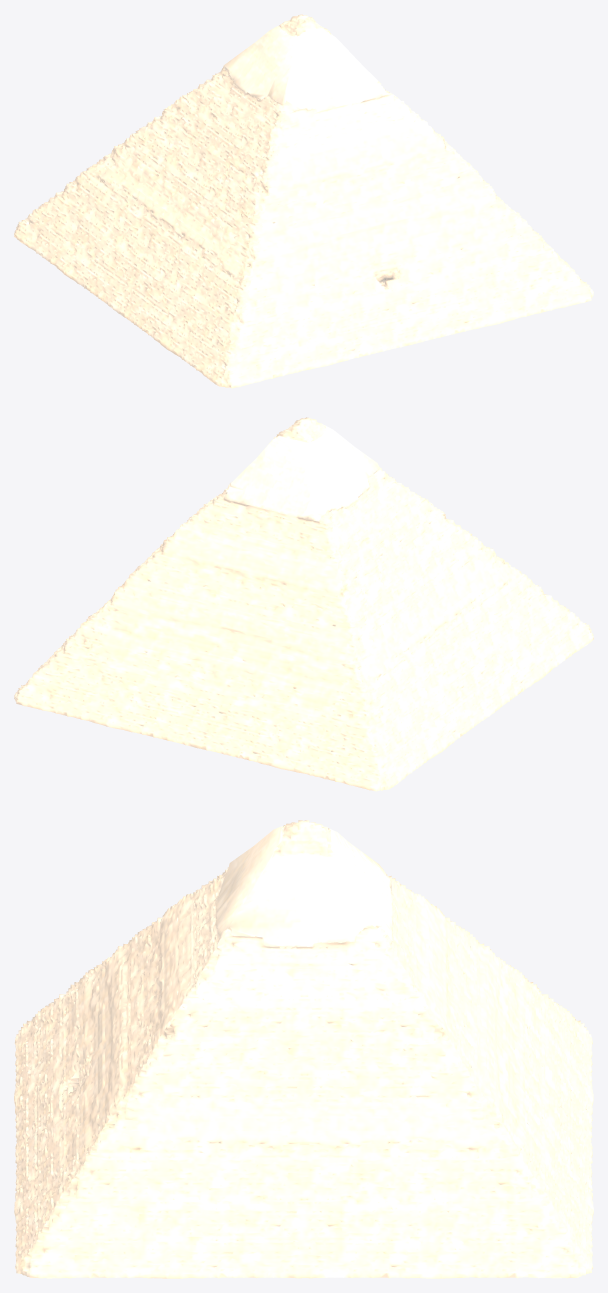
The model's file is 20250702_pyramyds_for_mb_pyramid2h.glb.
3 views of the same model, one above another, from view 1: azimuth 30°, elevation 25°; view 2: azimuth 150°, elevation 25°; view 3: azimuth 270°, elevation 25° (orthographic). The views are drawn at different scales.
Parts seen in each view (by area): view 1: khafre; view 2: khafre; view 3: khafre.
Boxes of the visible parts, x1=… form: khafre: x1=14, y1=14, x2=593, y2=388; khafre: x1=14, y1=417, x2=593, y2=791; khafre: x1=14, y1=820, x2=593, y2=1278.
Bounding box in the file's own units: 217 × 136 × 216.
Materials: 1 (1 with a texture image).
